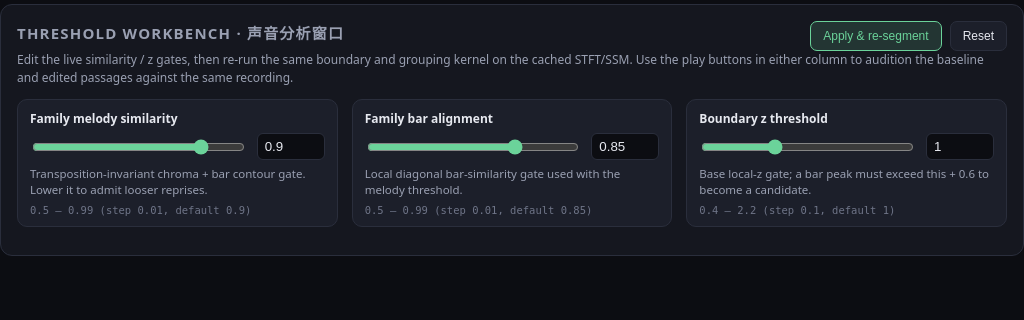
Scenario: threshold workbench (kernel-driven UI) › feeds validation failures back without replacing the structure
Replace the text in the field with test id "melody-threshold-text" with "9": coordinates (291, 146) [257,133,325,160]
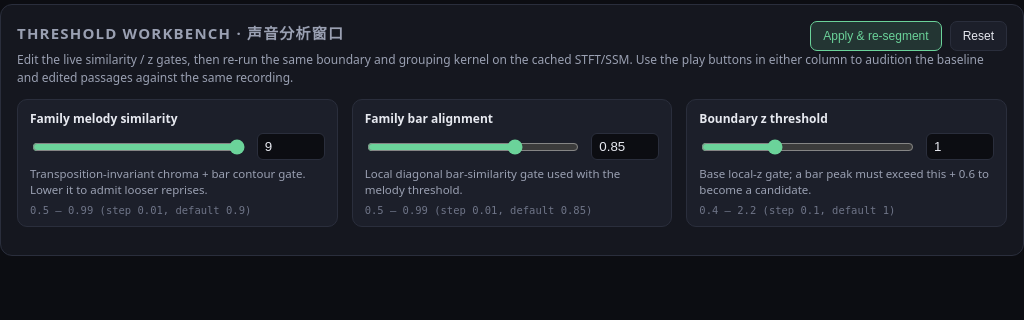
Click the button with test id "apply-resegment": coordinates (876, 36) [810,21,942,51]
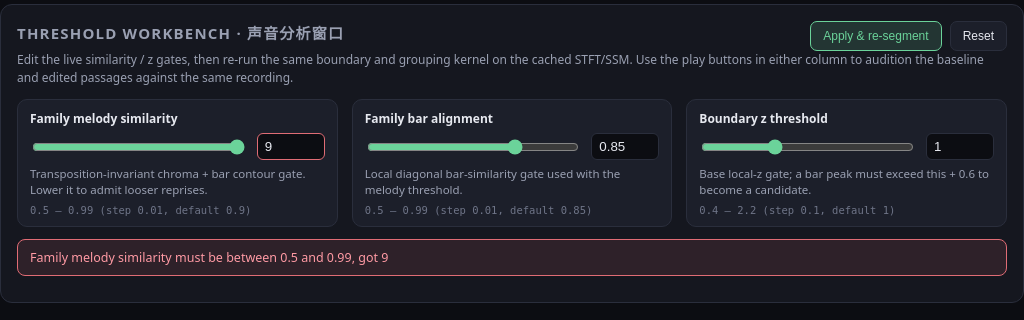
Expected: the message with test id "resegment-error" shows "between 0.5 and 0.99", [30,249,388,266]
